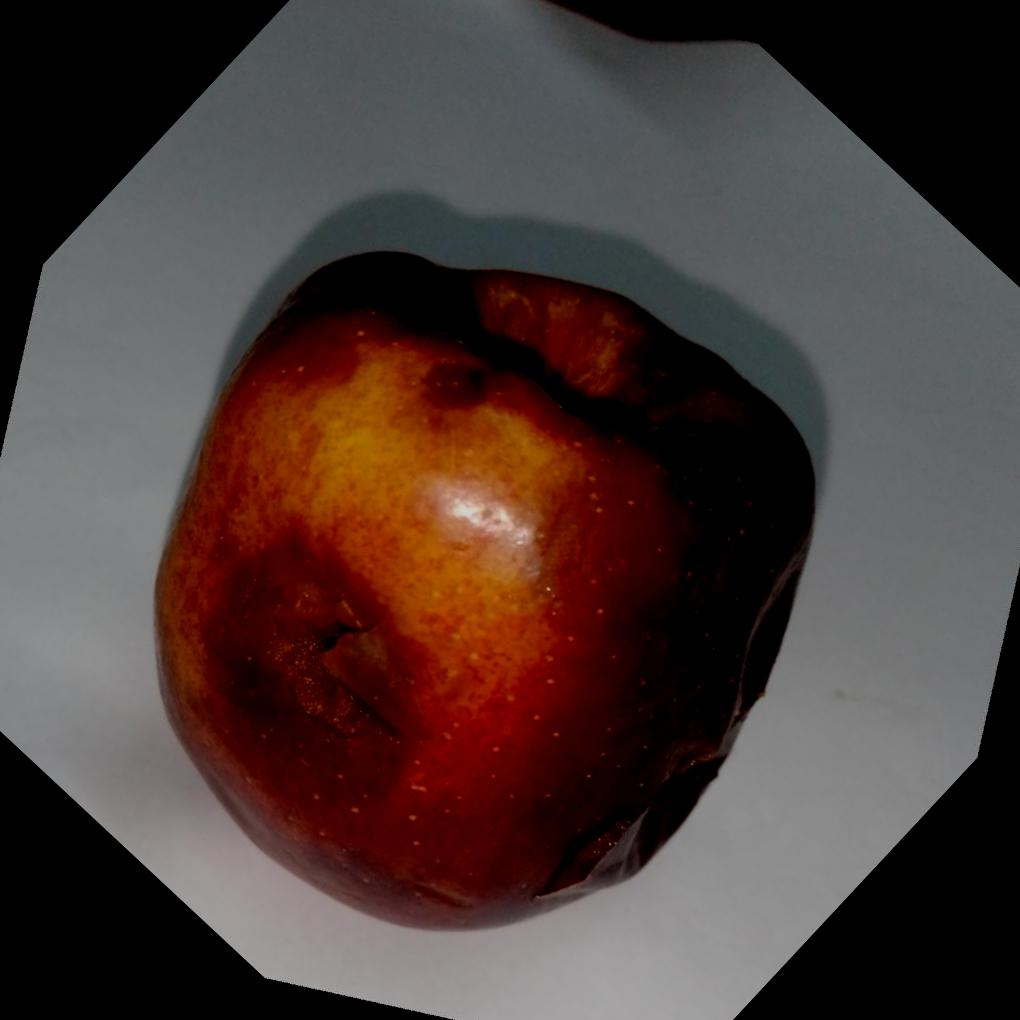FreshOrange: (148, 244, 815, 934)
